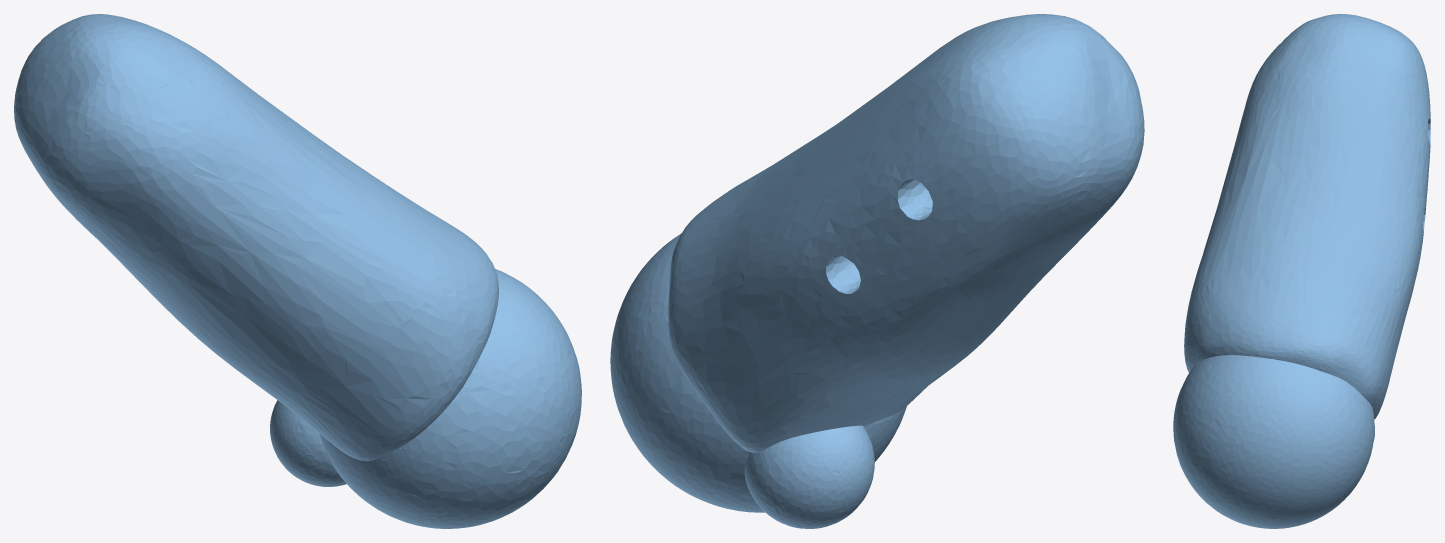
Rendered from body_left.glb.
3 renders of one model, left to right at view 1: azimuth 30°, elevation 25°; view 2: azimuth 150°, elevation 25°; view 3: azimuth 270°, elevation 25°, orthographic. The views are drawn at different scales.
Parts seen in each view (by area): view 1: left.stl.stl; view 2: left.stl.stl; view 3: left.stl.stl.
Part boxes in pixels (x1,y1,x2,y2): left.stl.stl: (14, 14, 581, 528); left.stl.stl: (610, 14, 1144, 528); left.stl.stl: (1173, 14, 1430, 528).
Bounding box in the file's own units: 235 × 244 × 145.
